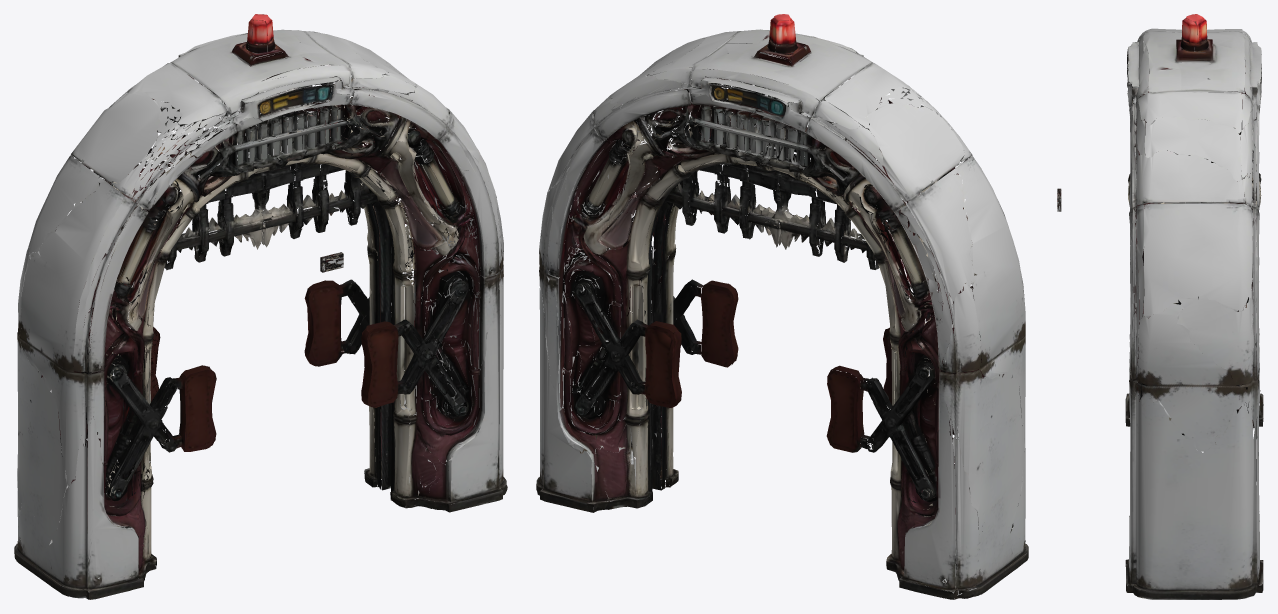
File: evac_infection_screening_arch.glb
3 views of the same model, side by side, from view 1: azimuth 30°, elevation 25°; view 2: azimuth 150°, elevation 25°; view 3: azimuth 270°, elevation 25° (orthographic). The views are drawn at different scales.
Parts seen in each view (by area): view 1: node_0; view 2: node_0; view 3: node_0.
Part boxes in pixels (left/top/right/bottom): node_0: left=14, top=14, right=507, bottom=599; node_0: left=536, top=14, right=1028, bottom=599; node_0: left=1125, top=14, right=1263, bottom=599.
Size of the model in its own units: 0.807 by 0.8828 by 0.343.
Materials: 1 (1 with a texture image).
